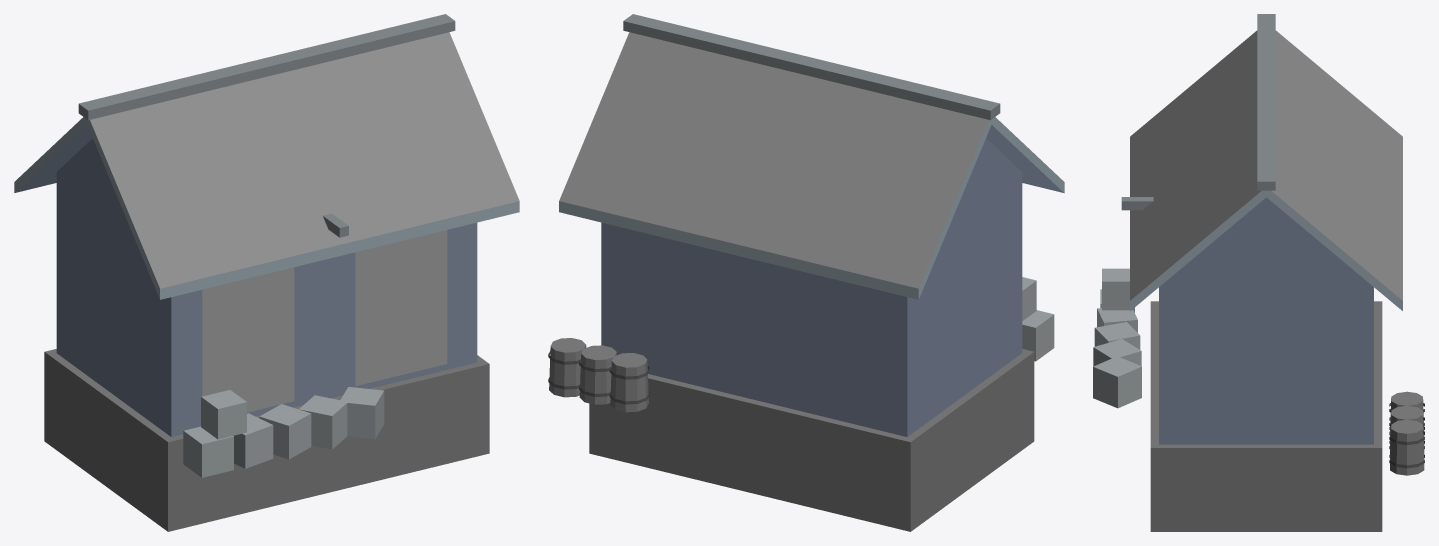
The model's file is warehouse.glb.
3 views of the same model, side by side, from view 1: azimuth 30°, elevation 25°; view 2: azimuth 150°, elevation 25°; view 3: azimuth 270°, elevation 25° (orthographic). The views are drawn at different scales.
Parts seen in each view (by area): view 1: warehouse; view 2: warehouse; view 3: warehouse.
Part boxes in pixels (left/top/right/bottom): warehouse: left=14, top=14, right=519, bottom=531; warehouse: left=548, top=14, right=1064, bottom=531; warehouse: left=1093, top=14, right=1424, bottom=531.
Bounding box in the file's own units: 4.83 × 4.81 × 4.01.
